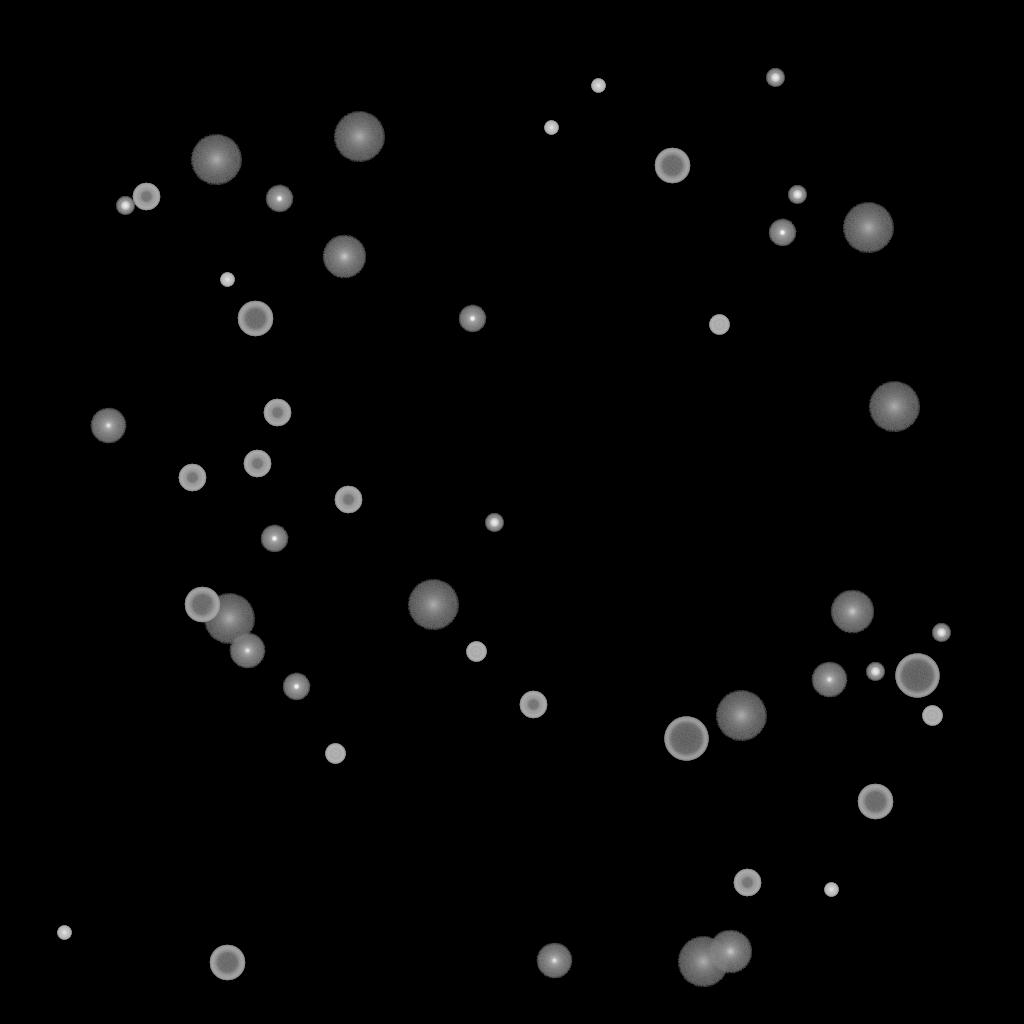depth:-10: (768, 219, 796, 247), (282, 673, 310, 701), (260, 525, 288, 553), (458, 305, 486, 333), (265, 185, 293, 213)
depth:-20: (485, 514, 503, 532), (866, 663, 884, 681), (116, 197, 134, 215), (932, 624, 950, 642), (766, 69, 784, 87), (788, 186, 806, 204)
depth:-30: (544, 121, 558, 135), (591, 79, 605, 93), (57, 926, 71, 940), (824, 883, 838, 897), (220, 273, 234, 287)
depth:-40: (709, 315, 729, 335), (325, 744, 345, 764), (466, 642, 486, 662), (922, 706, 942, 726)
depth:-50: (243, 450, 271, 478), (334, 486, 362, 514), (178, 464, 206, 492), (519, 691, 547, 719), (263, 399, 291, 427), (733, 869, 761, 897), (132, 183, 160, 211)
depth:-60: (654, 148, 690, 184), (184, 587, 220, 623), (857, 784, 893, 820), (209, 945, 245, 981), (237, 301, 273, 337)
depth:-70: (895, 654, 939, 698), (664, 717, 708, 761)
depth:0: (811, 662, 847, 698), (229, 633, 265, 669), (90, 408, 126, 444), (536, 943, 572, 979)
depth:10: (322, 235, 366, 279), (830, 590, 874, 634), (708, 930, 752, 974)
depth:20: (203, 594, 255, 644), (868, 382, 920, 432), (677, 937, 729, 987), (842, 203, 894, 253), (190, 135, 242, 185), (715, 691, 767, 741), (333, 112, 385, 162), (407, 580, 459, 630)
